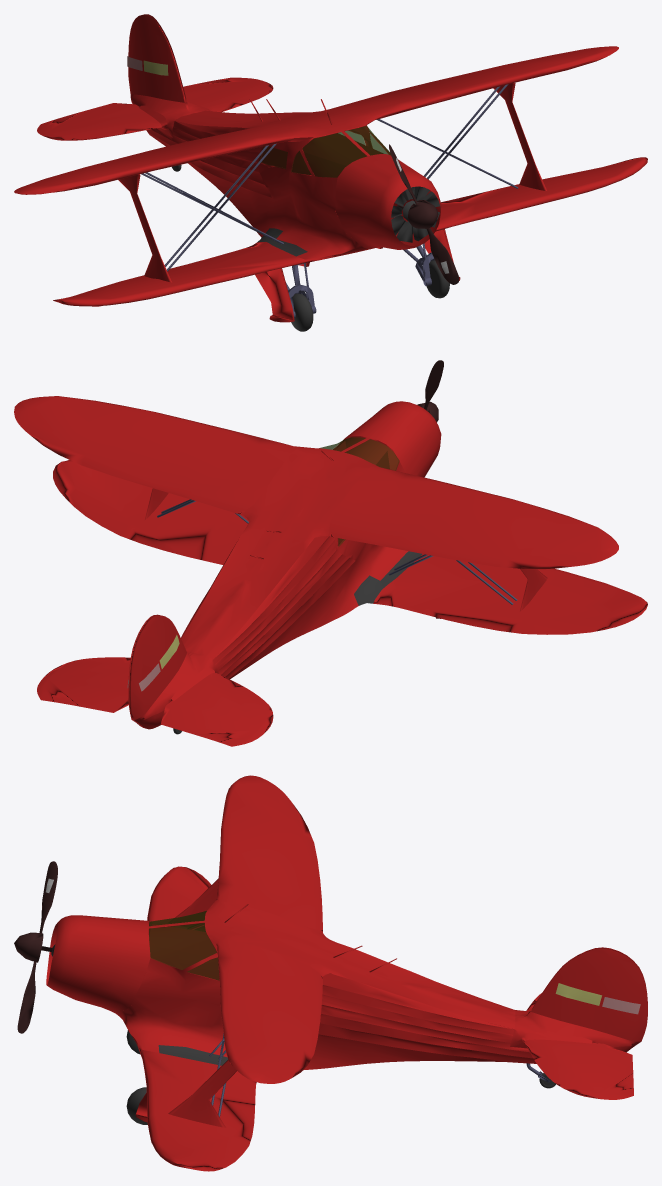
The model's file is biplane.obj.
3 renders of one model, top to bottom at view 1: azimuth 30°, elevation 25°; view 2: azimuth 150°, elevation 25°; view 3: azimuth 270°, elevation 25°, orthographic. The views are drawn at different scales.
Parts seen in each view (by area): view 1: biplane_old_biplane_old_G17SFRED, biplane_old_biplane_old_Material__45, biplane_old_biplane_old_G17SPRED, biplane_old_biplane_old_G17SALMN, biplane_old_biplane_old_G17SGLAS, biplane_old_biplane_old_G17SCRMD, biplane_old_biplane_old_G17SINHL, biplane_old_biplane_old_G17SNEUM, biplane_old_biplane_old_Material__46; view 2: biplane_old_biplane_old_G17SFRED, biplane_old_biplane_old_Material__45, biplane_old_biplane_old_G17SPRED, biplane_old_biplane_old_G17SGLAS, biplane_old_biplane_old_Material__46, biplane_old_biplane_old_G17SALMN, biplane_old_biplane_old_G17SCRMD; view 3: biplane_old_biplane_old_G17SFRED, biplane_old_biplane_old_Material__45, biplane_old_biplane_old_G17SPRED, biplane_old_biplane_old_G17SGLAS, biplane_old_biplane_old_G17SCRMD, biplane_old_biplane_old_G17SNEUM, biplane_old_biplane_old_Material__46.
Boxes of the visible parts, left/top/right/bottom form: biplane_old_biplane_old_G17SFRED: left=14, top=14, right=647, bottom=322; biplane_old_biplane_old_Material__45: left=147, top=108, right=438, bottom=260; biplane_old_biplane_old_G17SPRED: left=335, top=154, right=441, bottom=249; biplane_old_biplane_old_G17SALMN: left=141, top=84, right=518, bottom=318; biplane_old_biplane_old_G17SGLAS: left=259, top=125, right=390, bottom=177; biplane_old_biplane_old_G17SCRMD: left=389, top=144, right=459, bottom=284; biplane_old_biplane_old_G17SINHL: left=391, top=186, right=439, bottom=242; biplane_old_biplane_old_G17SNEUM: left=172, top=164, right=449, bottom=331; biplane_old_biplane_old_Material__46: left=257, top=228, right=307, bottom=256; biplane_old_biplane_old_G17SFRED: left=14, top=396, right=647, bottom=746; biplane_old_biplane_old_Material__45: left=181, top=436, right=408, bottom=679; biplane_old_biplane_old_G17SPRED: left=337, top=401, right=441, bottom=477; biplane_old_biplane_old_G17SGLAS: left=319, top=437, right=399, bottom=546; biplane_old_biplane_old_Material__46: left=354, top=551, right=422, bottom=605; biplane_old_biplane_old_G17SALMN: left=157, top=499, right=517, bottom=604; biplane_old_biplane_old_G17SCRMD: left=417, top=360, right=443, bottom=422; biplane_old_biplane_old_G17SFRED: left=130, top=775, right=647, bottom=1171; biplane_old_biplane_old_Material__45: left=120, top=900, right=536, bottom=1070; biplane_old_biplane_old_G17SPRED: left=46, top=915, right=150, bottom=1016; biplane_old_biplane_old_G17SGLAS: left=149, top=911, right=219, bottom=980; biplane_old_biplane_old_G17SCRMD: left=14, top=861, right=57, bottom=1033; biplane_old_biplane_old_G17SNEUM: left=126, top=1030, right=555, bottom=1124; biplane_old_biplane_old_Material__46: left=158, top=1045, right=228, bottom=1065.
Size of the model in its own units: 11.81 by 3.88 by 10.35.
